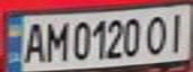0: (121, 15, 145, 58), (69, 17, 90, 62)
1: (90, 16, 109, 61)
2: (106, 16, 127, 60)
A: (18, 19, 48, 64)
I: (163, 8, 193, 55)
M: (42, 18, 69, 63)
O: (142, 11, 172, 56)
